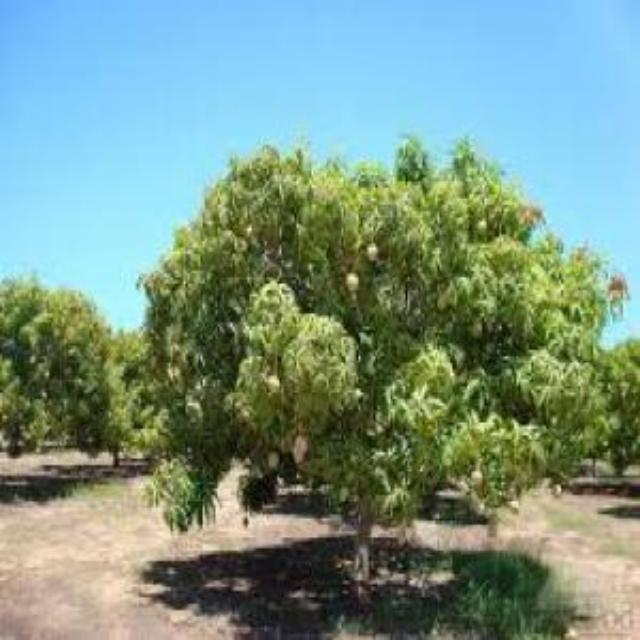tree: (136, 128, 610, 584), (0, 258, 140, 476)
